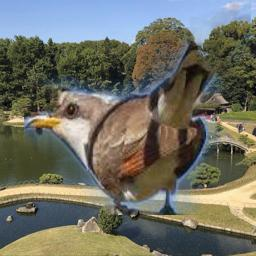Cuckoo: (24, 1, 251, 215)
